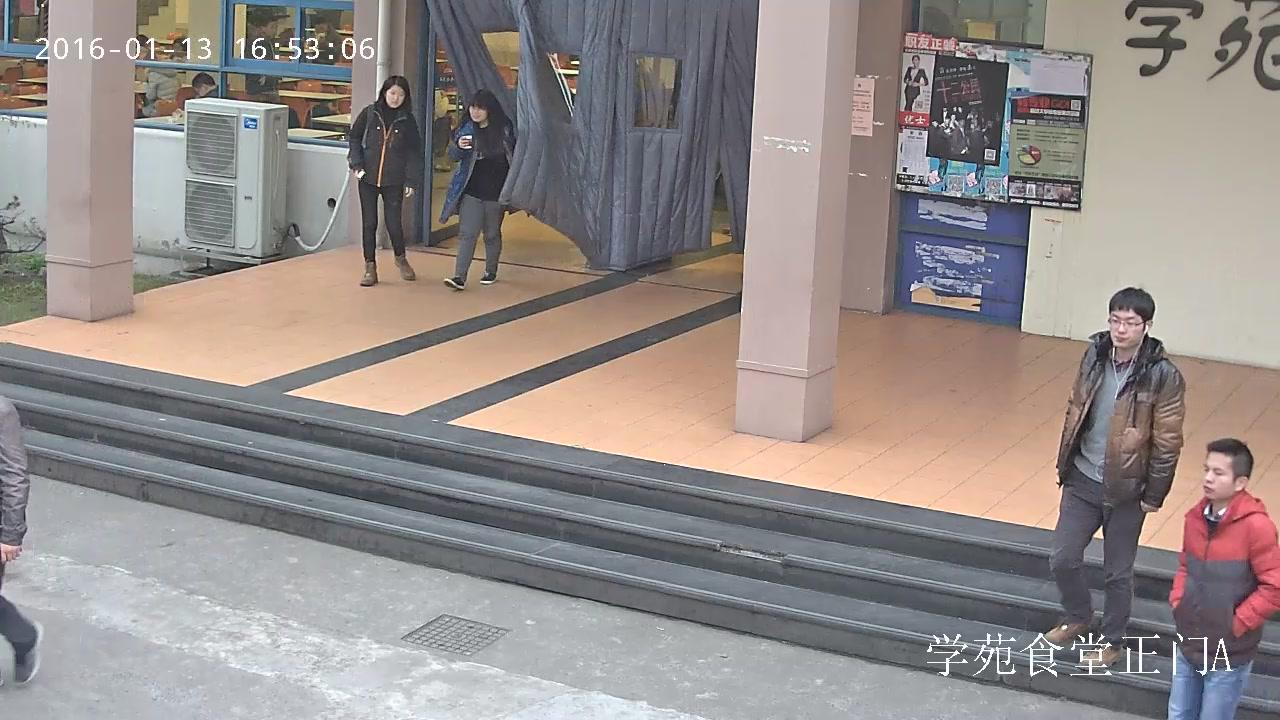person: (1043, 286, 1186, 667), (1167, 437, 1280, 720), (348, 75, 421, 286), (440, 88, 516, 290), (0, 395, 41, 688), (245, 16, 279, 101), (135, 54, 180, 117), (902, 54, 929, 111)
